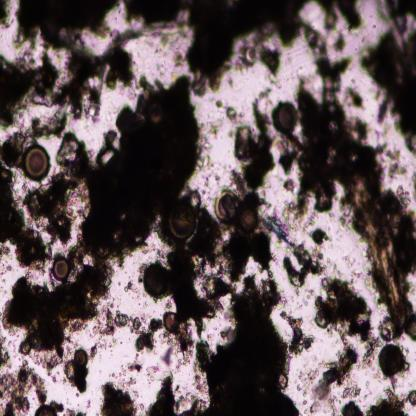Background material: (4, 79, 198, 362), (294, 31, 416, 340), (122, 0, 304, 94), (195, 270, 301, 414), (361, 0, 416, 157), (318, 275, 384, 372), (166, 242, 230, 336), (10, 0, 121, 52), (199, 207, 274, 282), (0, 168, 50, 272), (58, 49, 134, 117), (234, 95, 276, 211), (298, 339, 358, 414), (0, 52, 57, 128), (0, 111, 66, 170), (26, 172, 76, 245), (0, 358, 64, 415), (283, 246, 326, 290), (94, 299, 141, 339), (142, 368, 181, 416), (314, 0, 364, 36), (57, 135, 92, 185), (373, 135, 408, 180), (280, 314, 313, 357), (100, 379, 138, 416), (242, 43, 282, 78), (274, 130, 303, 178), (366, 385, 409, 416), (166, 323, 194, 365), (136, 316, 163, 356), (66, 360, 89, 395), (175, 392, 207, 415), (344, 84, 366, 112), (116, 361, 142, 379), (217, 101, 238, 123), (0, 0, 14, 30), (0, 329, 9, 370), (200, 138, 212, 168), (312, 229, 332, 246), (333, 30, 347, 54), (341, 401, 363, 416), (280, 178, 298, 196), (161, 348, 174, 367), (123, 280, 138, 296), (64, 406, 87, 414), (410, 384, 416, 408), (90, 345, 99, 360)
Cotton: (262, 211, 294, 246)
Diatom: (168, 202, 196, 242), (22, 144, 50, 181), (142, 262, 169, 298), (378, 342, 404, 376), (216, 188, 241, 223), (240, 207, 260, 234), (278, 103, 297, 130), (51, 258, 70, 282), (163, 312, 178, 334), (74, 348, 88, 367)
